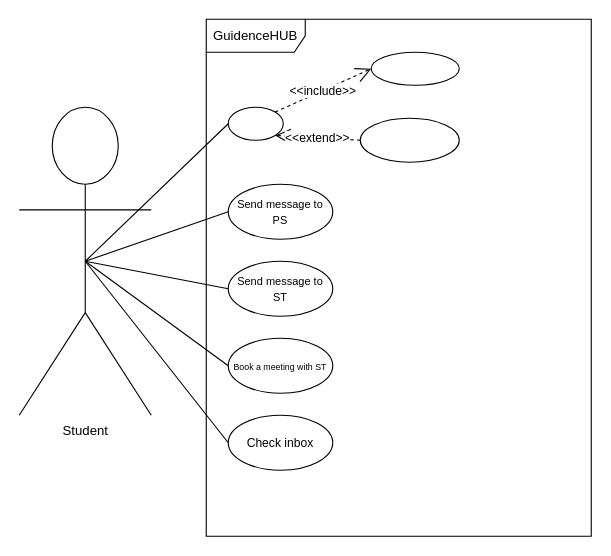
This 611x556 diagram has some shape labels left out. The shapes that lost their labels are listed below. From the top down, each one's box as (x1, y1, x2, y2) in pixels, then its label:
(370, 51, 459, 85): Verify Password
(227, 106, 283, 140): Log in
(359, 117, 459, 162): Display Log in Error
